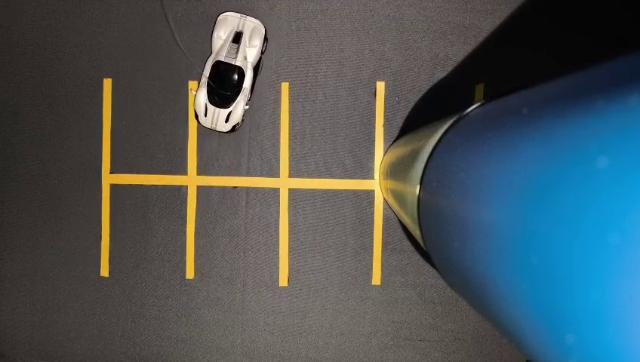toy_car: (176, 6, 304, 139)
